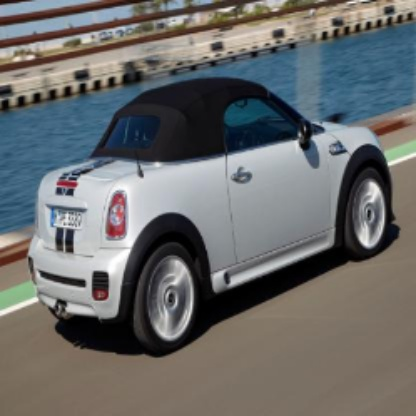Vehicle: (27, 74, 399, 356)
